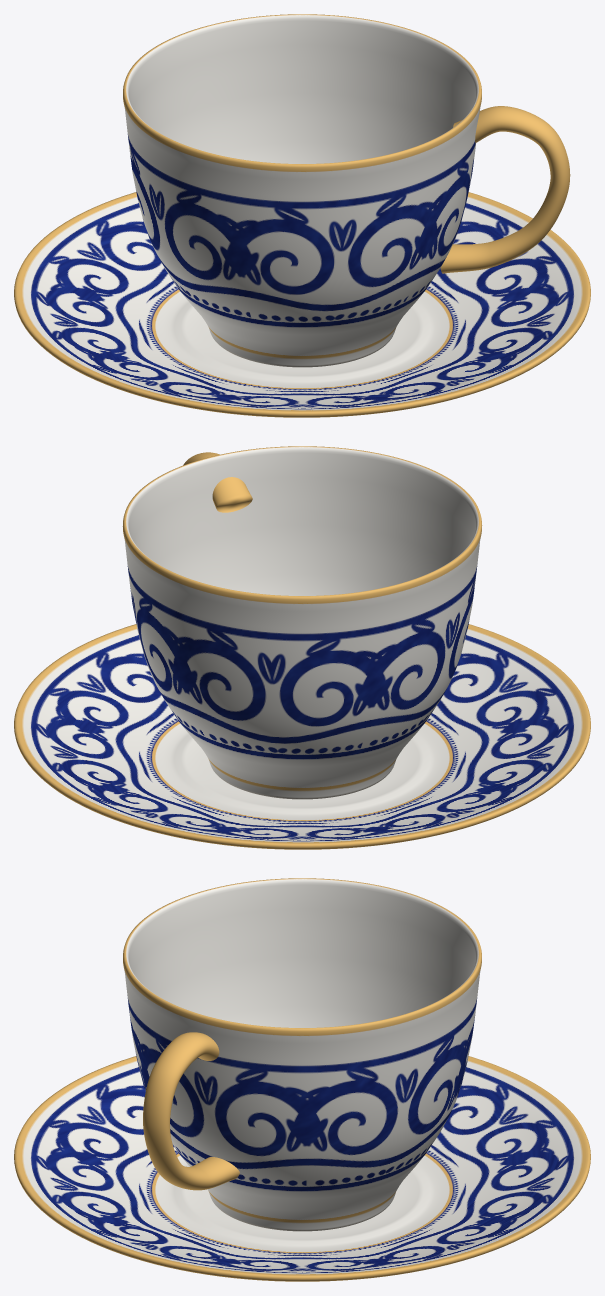
File: baroque-cup-saucer.glb
3 views of the same model, one above another, from view 1: azimuth 30°, elevation 25°; view 2: azimuth 150°, elevation 25°; view 3: azimuth 270°, elevation 25° (orthographic).
Parts seen in each view (by area): view 1: cup, saucer, cup-handle; view 2: cup, saucer, cup-handle; view 3: cup, saucer, cup-handle.
Part boxes in pixels (box(x1,y1,x2,y2)): cup: box(123, 14, 481, 367); saucer: box(14, 192, 590, 417); cup-handle: box(440, 106, 570, 273); cup: box(122, 446, 482, 799); saucer: box(14, 624, 590, 849); cup-handle: box(183, 452, 252, 512); cup: box(123, 878, 481, 1231); saucer: box(14, 1056, 590, 1281); cup-handle: box(143, 1032, 239, 1190).
Size of the model in its own units: 0.1506 by 0.0753 by 0.1506.
3 materials, 2 textured.
